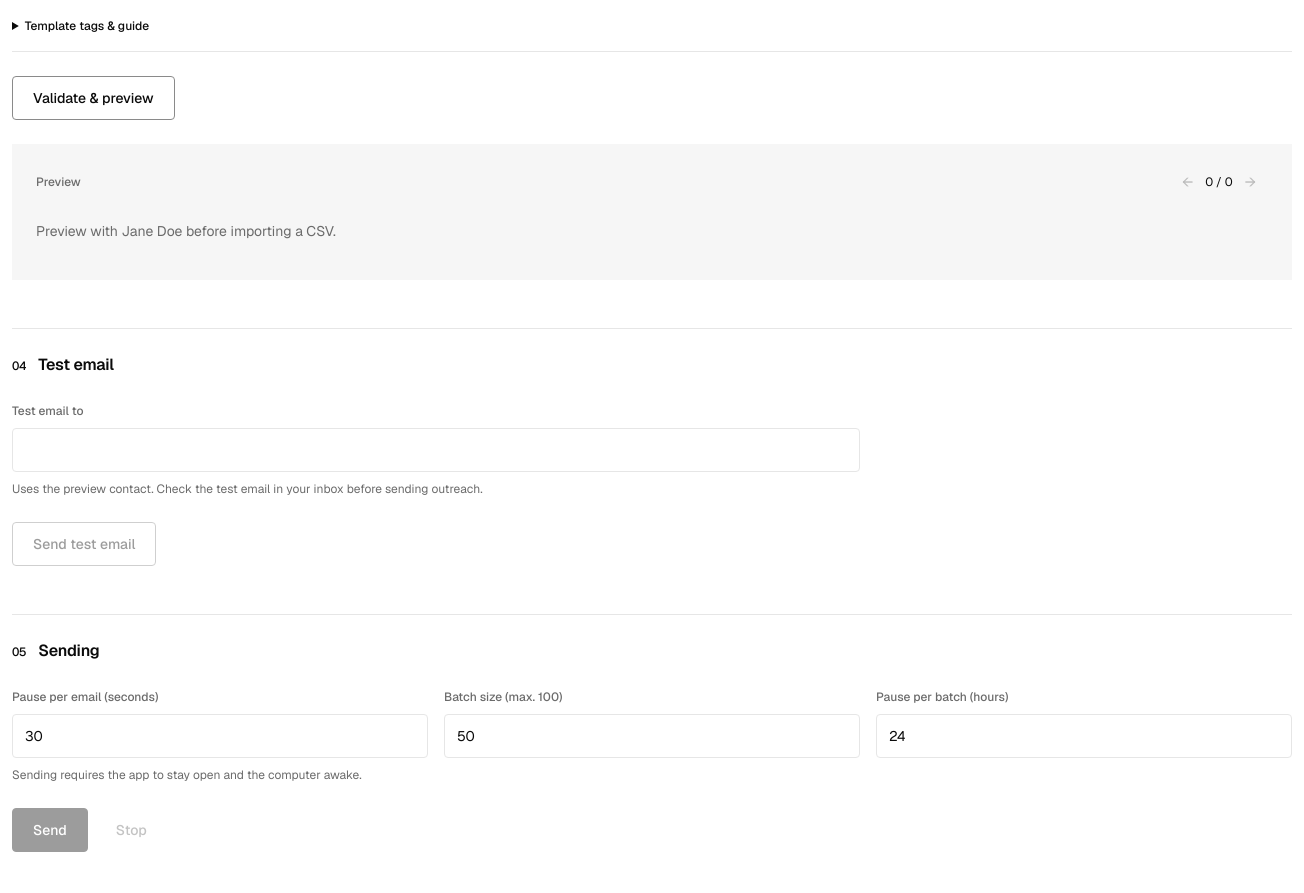
Scenario: error reporting › reports local validation and exposes a failed log write
(page scrolled)
expect the button "Validate & preview" is enabled: met, box [12,76,174,120]
Replace the text in the number field labelled "Pause per batch (hours)" with "25" at (1084, 736), box [876,714,1292,758]
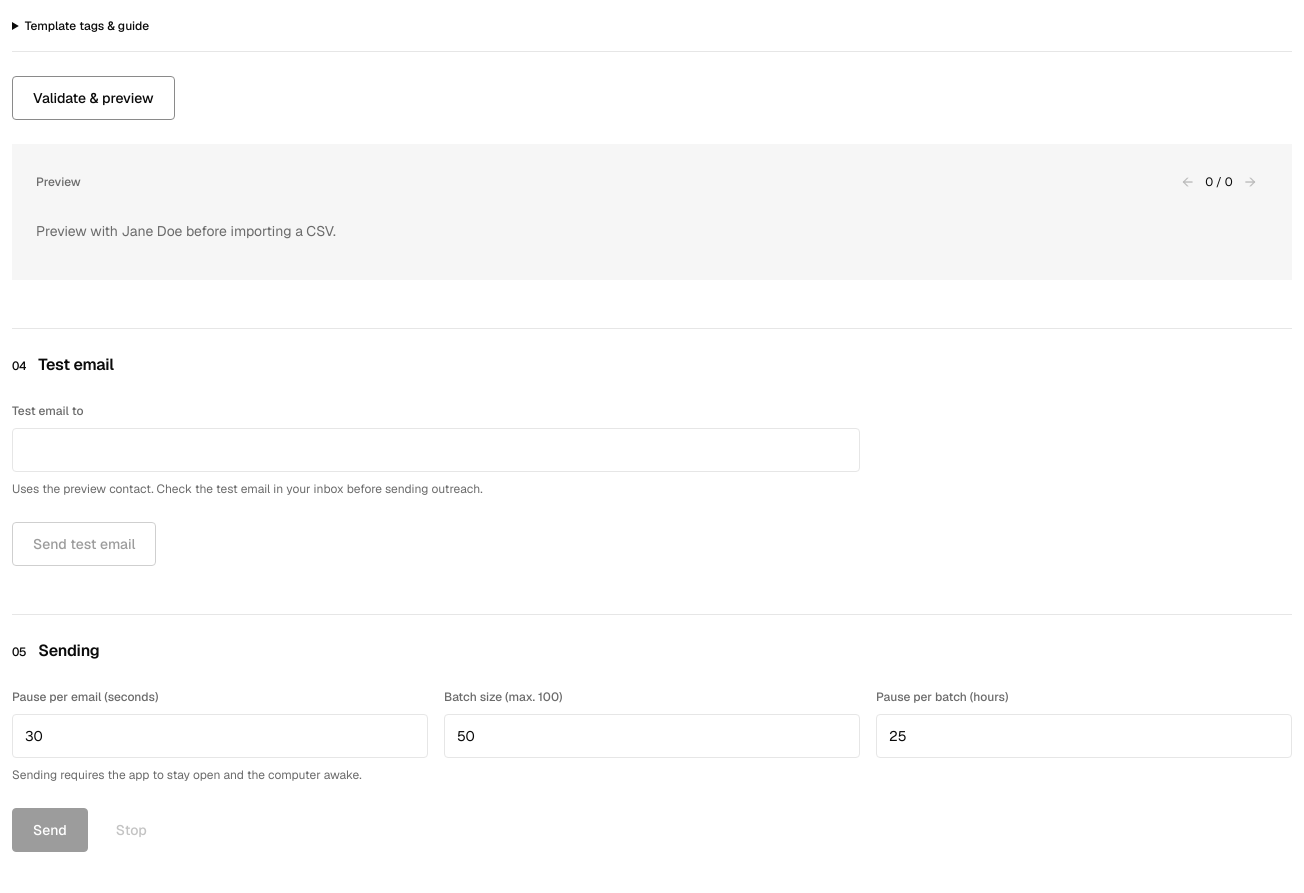
Click the button "Validate & preview" at (93, 98), box [12,76,174,120]
(page scrolled)
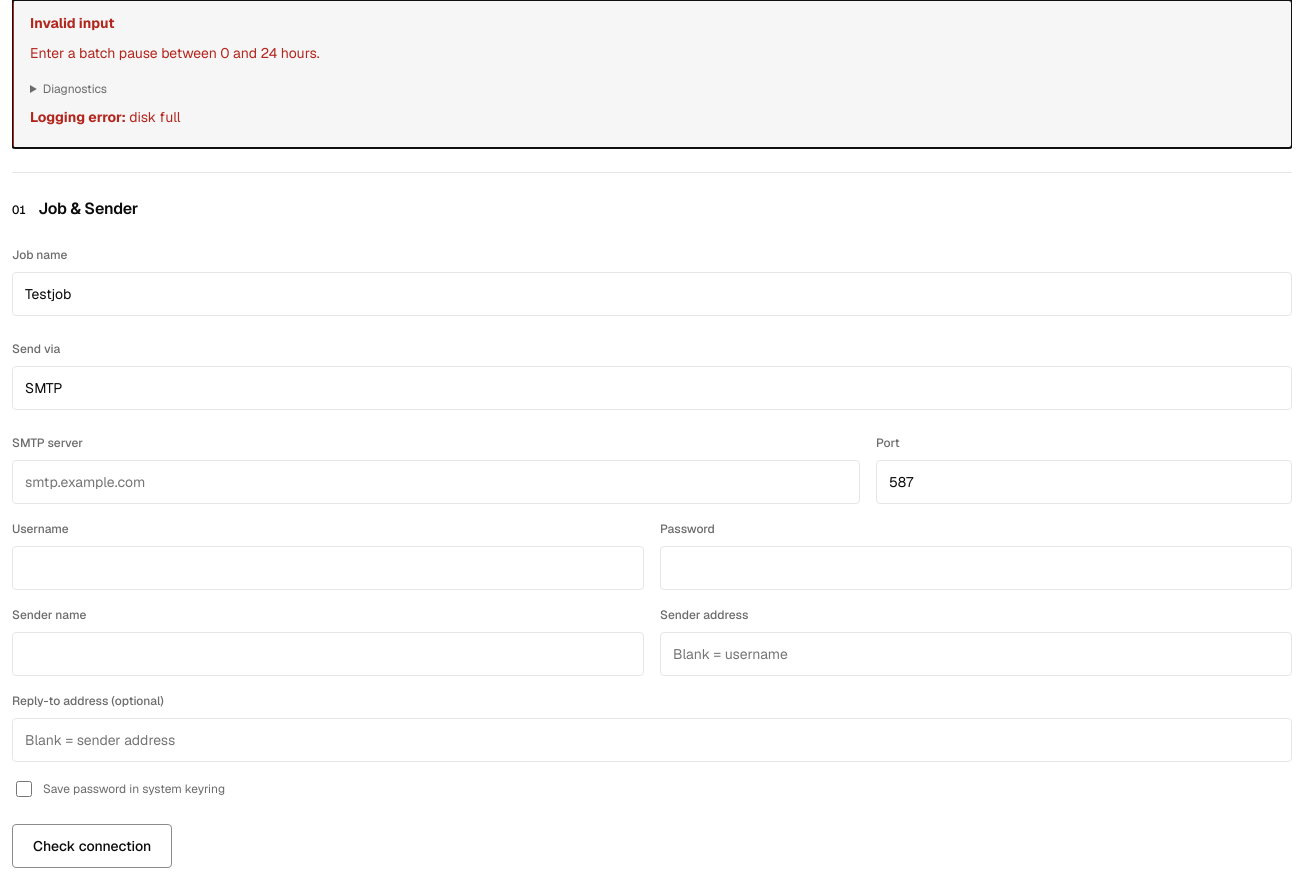
expect the message shows "batch pause between 0 and 24 hours": met, box [30,44,320,62]
expect the message shows "disk full": met, box [126,108,181,126]
